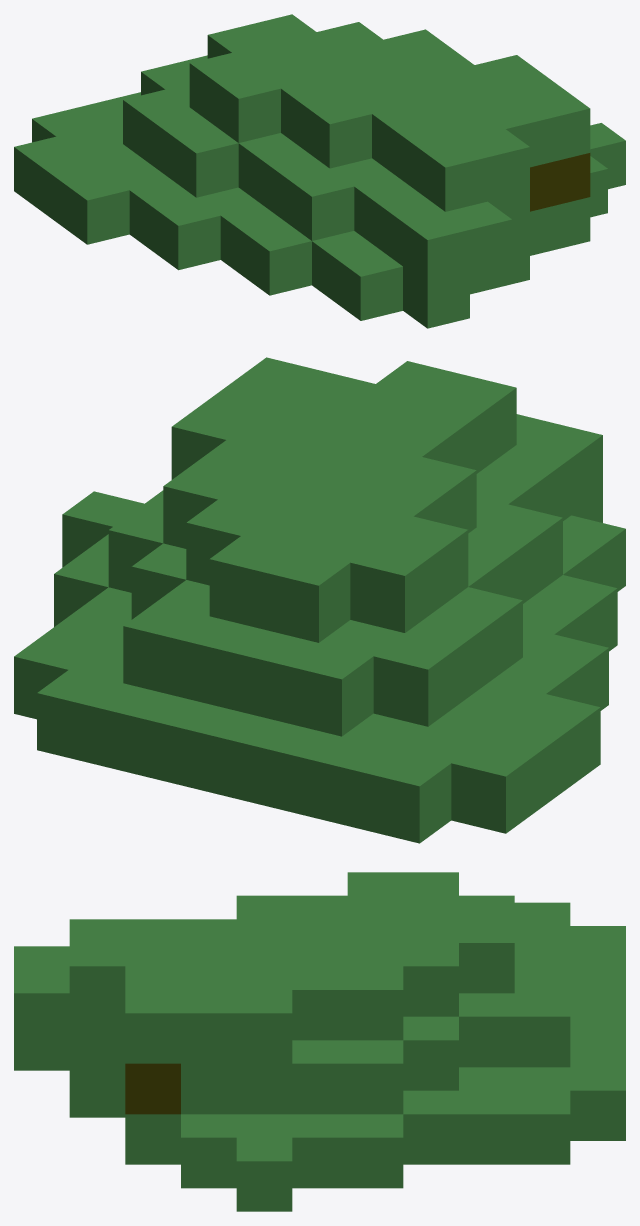
Rendered from Leontortalder2.obj.
3 renders of one model, top to bottom at view 1: azimuth 30°, elevation 25°; view 2: azimuth 150°, elevation 25°; view 3: azimuth 270°, elevation 25°, orthographic. The views are drawn at different scales.
Parts seen in each view (by area): view 1: Leontader2; view 2: Leontader2; view 3: Leontader2.
Boxes of the visible parts, x1,y1,x2,y2 form: Leontader2: [14, 14, 625, 328]; Leontader2: [14, 357, 625, 843]; Leontader2: [14, 872, 625, 1211].
Bounding box in the file's own units: 1.1 × 0.3 × 1.1.
